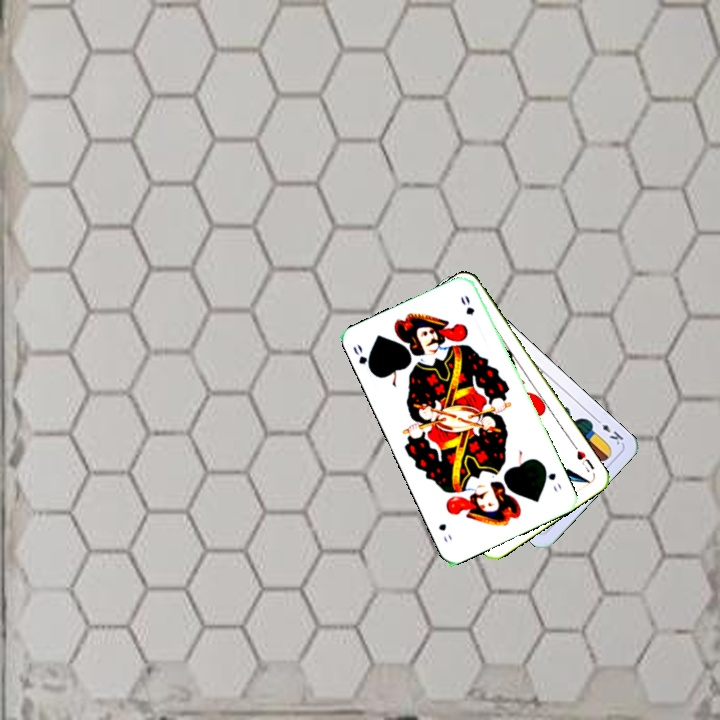EK: (591, 414, 626, 448)
GO: (349, 340, 376, 377), (539, 461, 564, 494)
HU: (569, 441, 597, 475)
